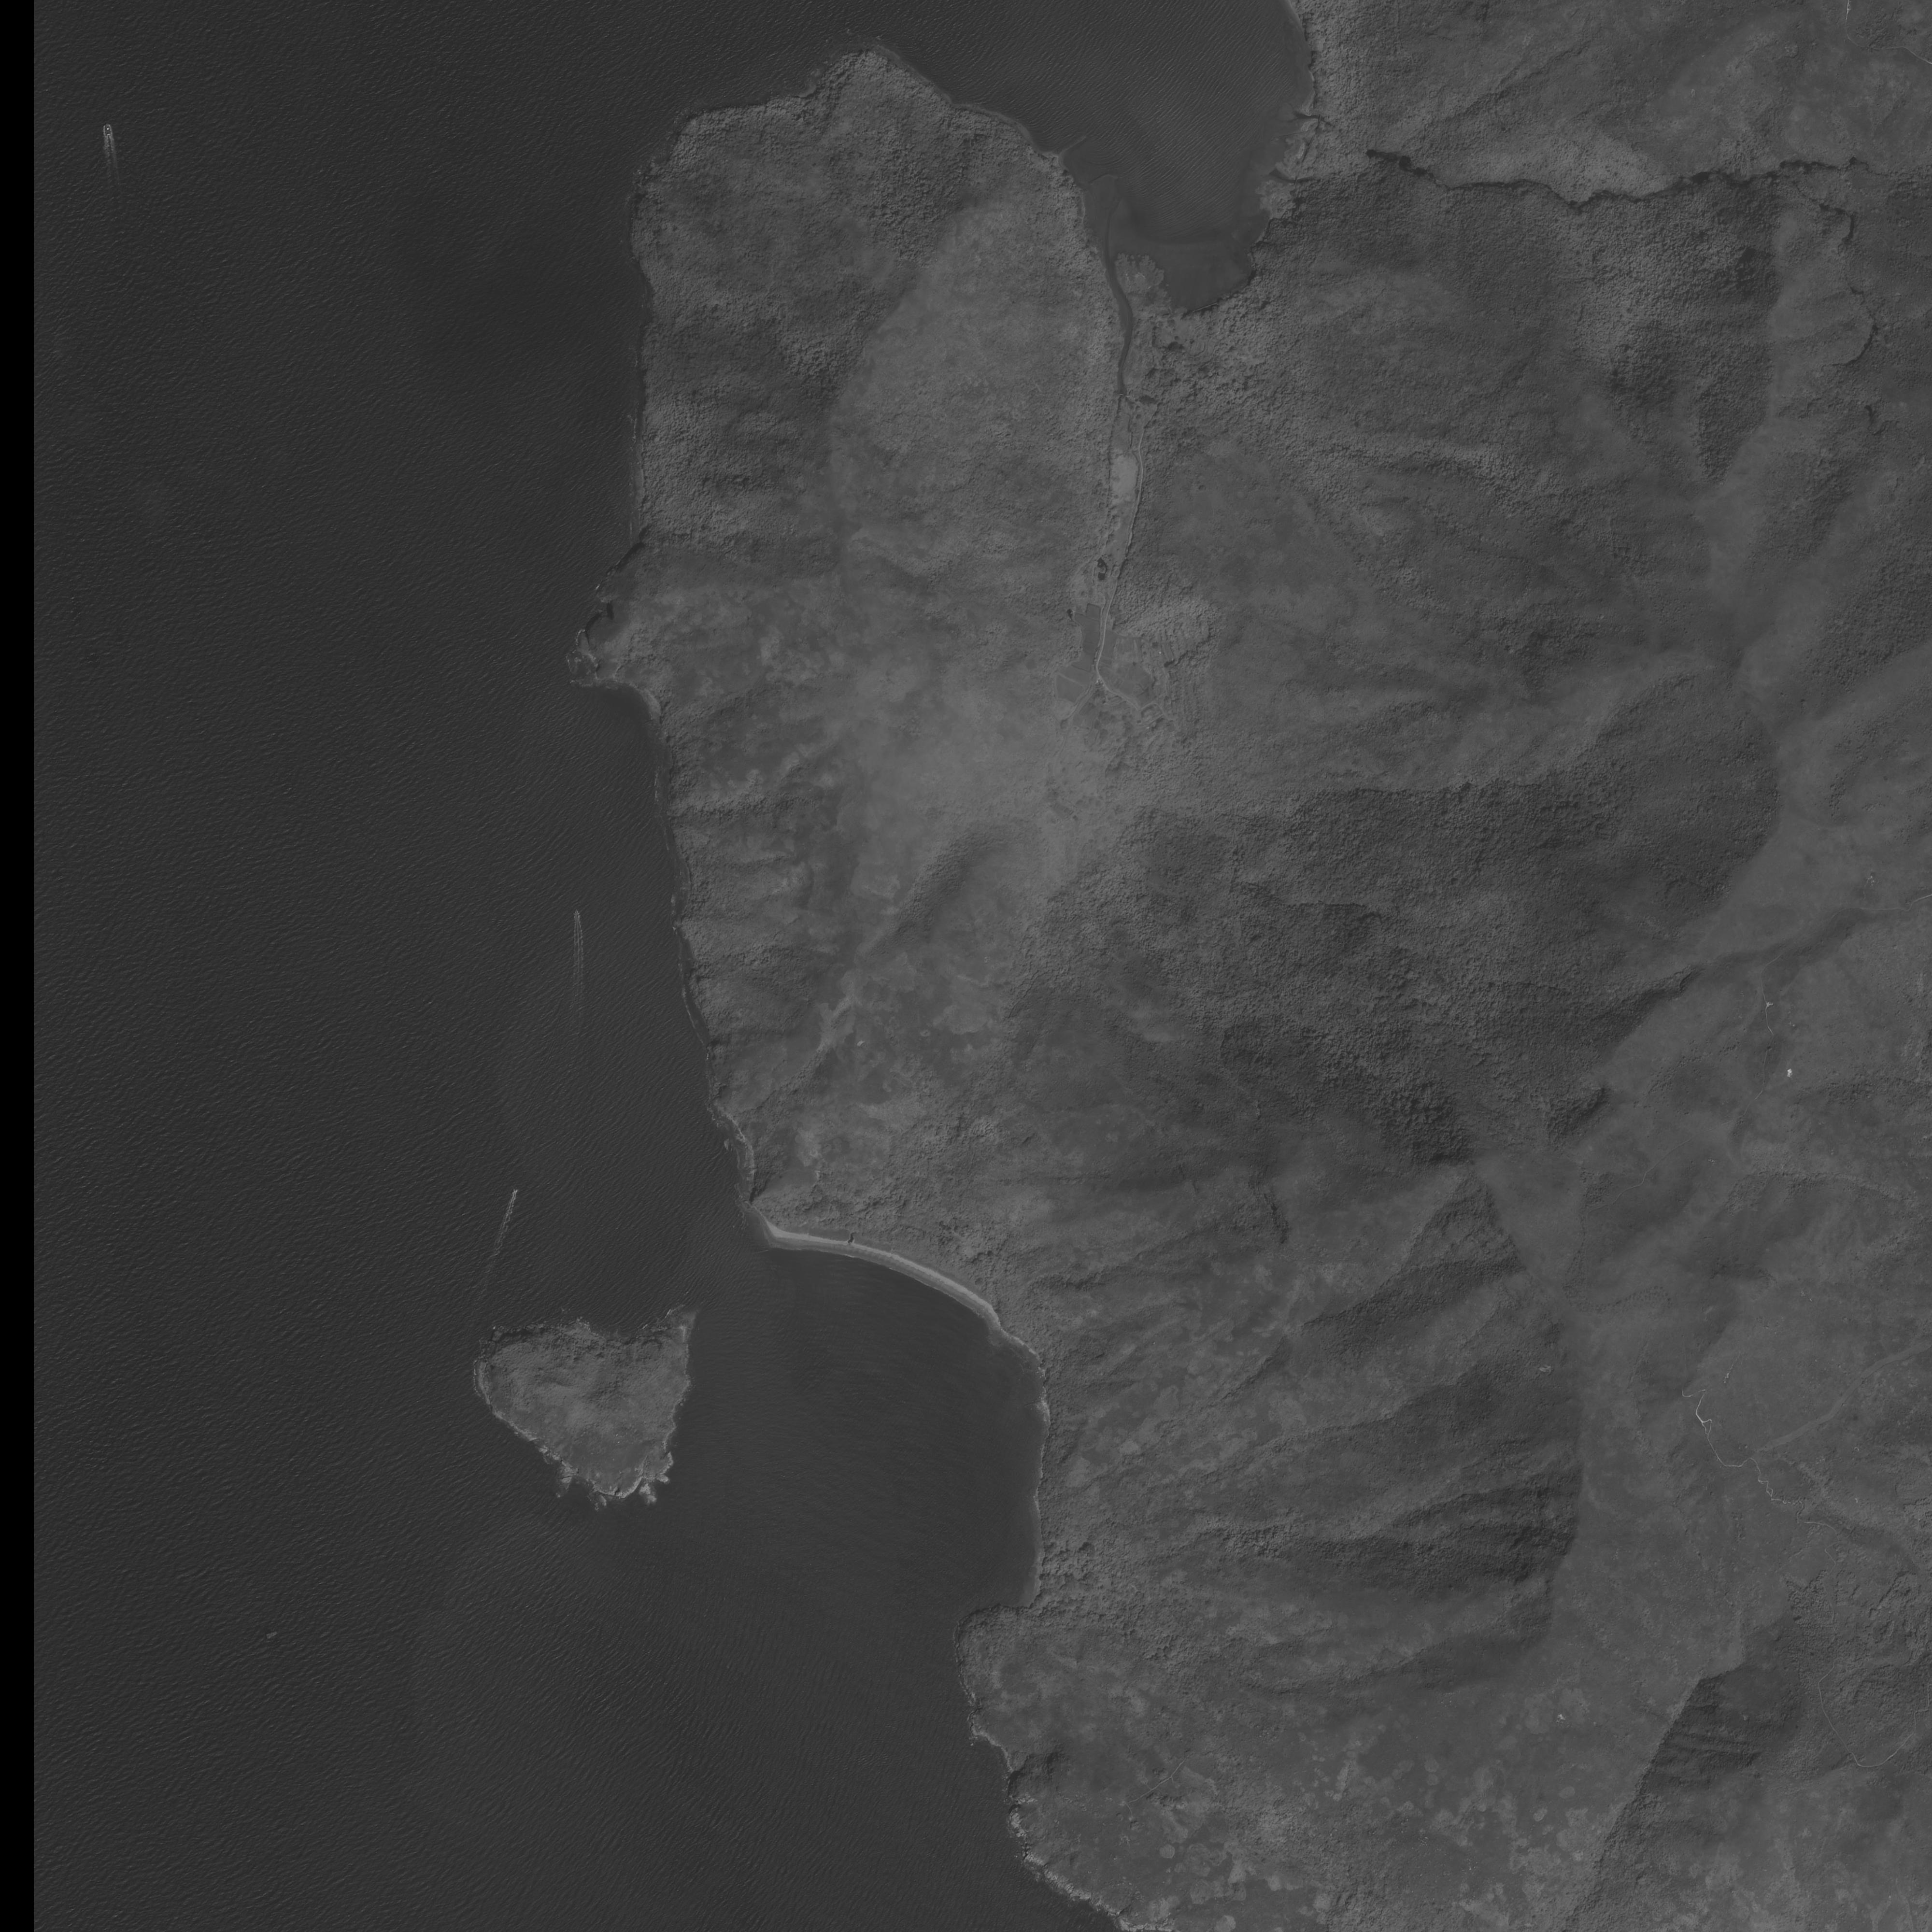ship: (511, 1185, 518, 1198), (104, 124, 111, 136), (575, 908, 580, 920)
